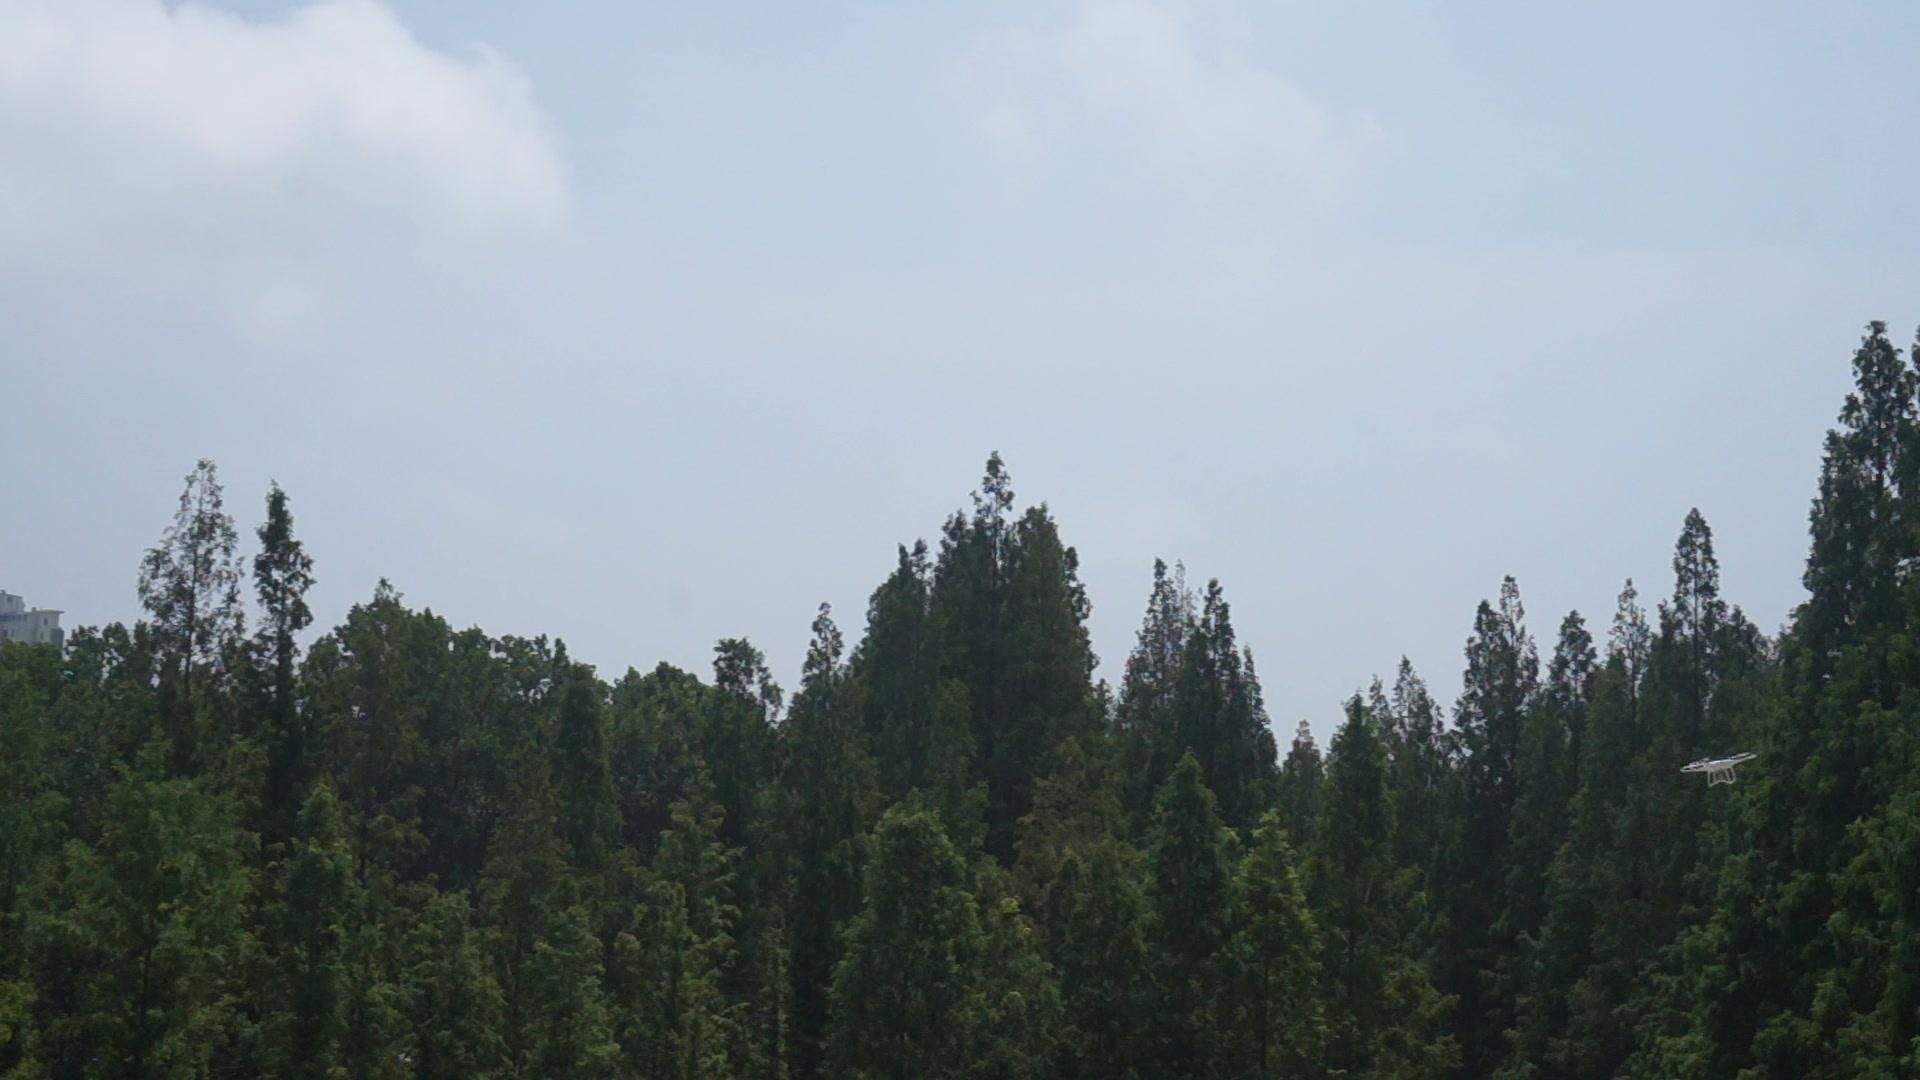UAV: (1681, 753, 1759, 789)
